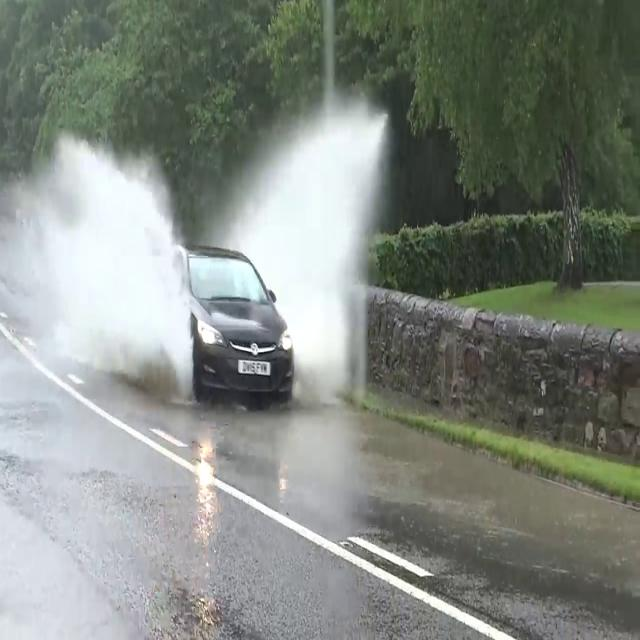license-plate-annotation: (234, 354, 277, 382)
